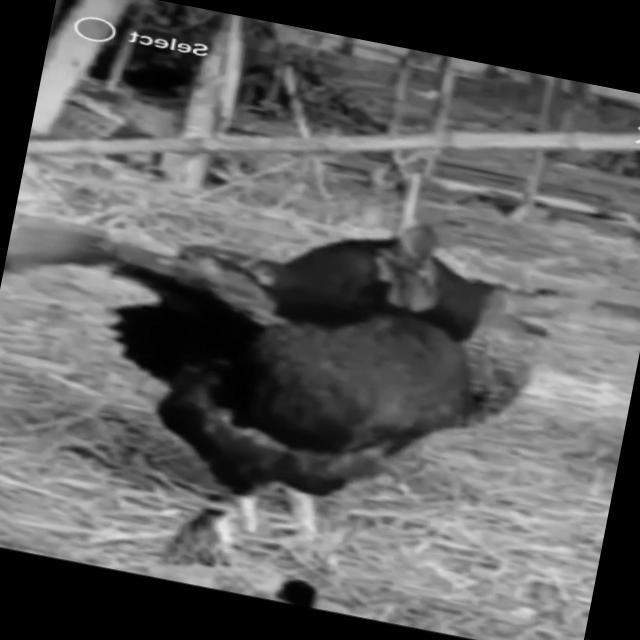wing flap: (0, 145, 597, 598)
